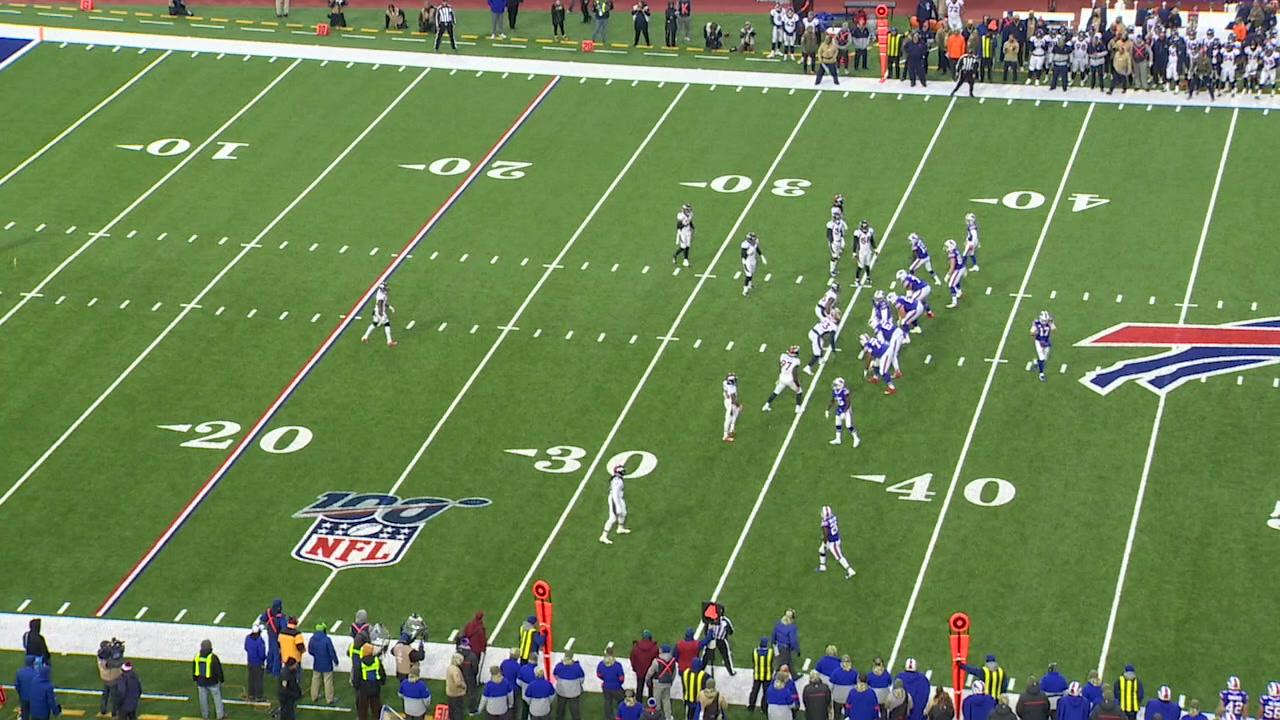defense: (596, 455, 639, 551), (352, 275, 402, 352), (760, 344, 806, 417), (801, 312, 847, 373), (734, 226, 770, 299), (716, 368, 746, 446), (849, 215, 881, 287), (670, 197, 700, 268), (823, 213, 849, 282), (817, 282, 844, 320), (829, 191, 851, 212)
oline: (859, 331, 897, 398), (891, 268, 936, 319), (885, 290, 925, 340), (866, 315, 908, 347), (866, 288, 891, 322)
qb: (1027, 305, 1055, 381)
ref: (696, 598, 741, 680), (944, 49, 983, 105)
skill: (816, 502, 860, 584), (826, 374, 867, 455), (907, 231, 943, 286), (940, 236, 965, 307), (961, 210, 982, 268)
